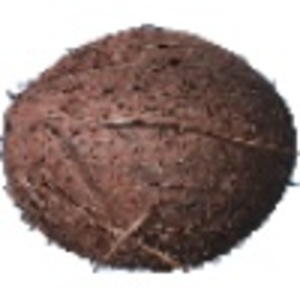coco: (1, 25, 300, 274)
